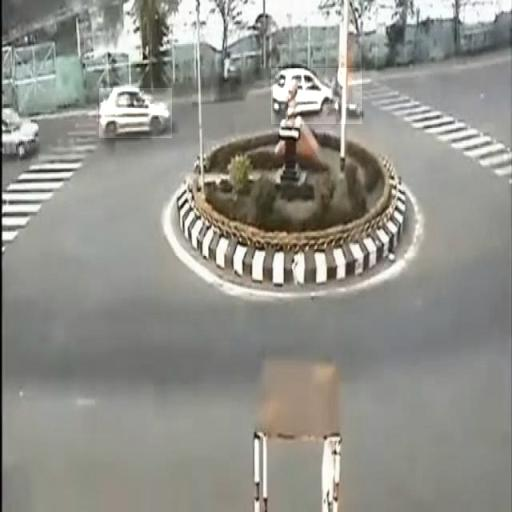小汽车: (99, 88, 172, 138)
小汽车撞自行车: (271, 68, 362, 124)
